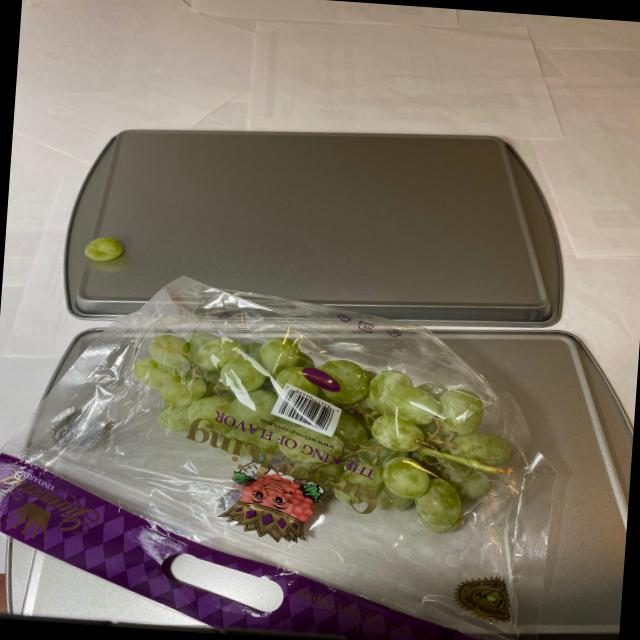grapes: (129, 319, 536, 544)
